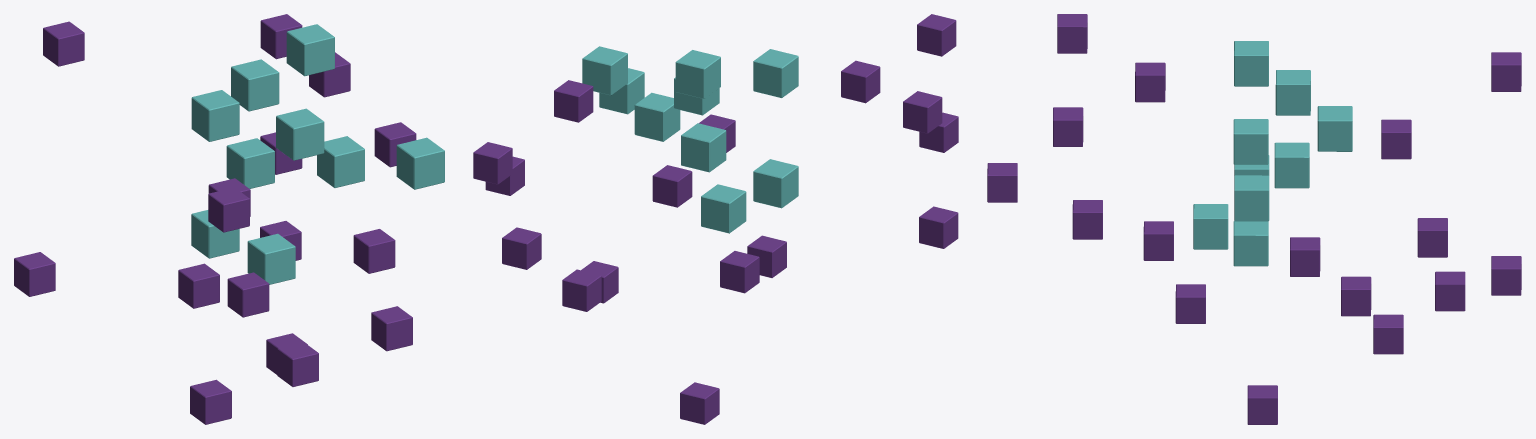
File: cubes_7.fbx
3 renders of one model, left to right at view 1: azimuth 30°, elevation 25°; view 2: azimuth 150°, elevation 25°; view 3: azimuth 270°, elevation 25°, orthographic. The views are drawn at different scales.
Visible parts, largest first — view 1: Box156; view 2: Box156; view 3: Box156.
Boxes of the visible parts, x1,y1,x2,y2 form: Box156: (14, 14, 444, 424); Box156: (473, 14, 958, 424); Box156: (987, 14, 1521, 424).
Bounding box in the file's own units: 734 × 587 × 998.
